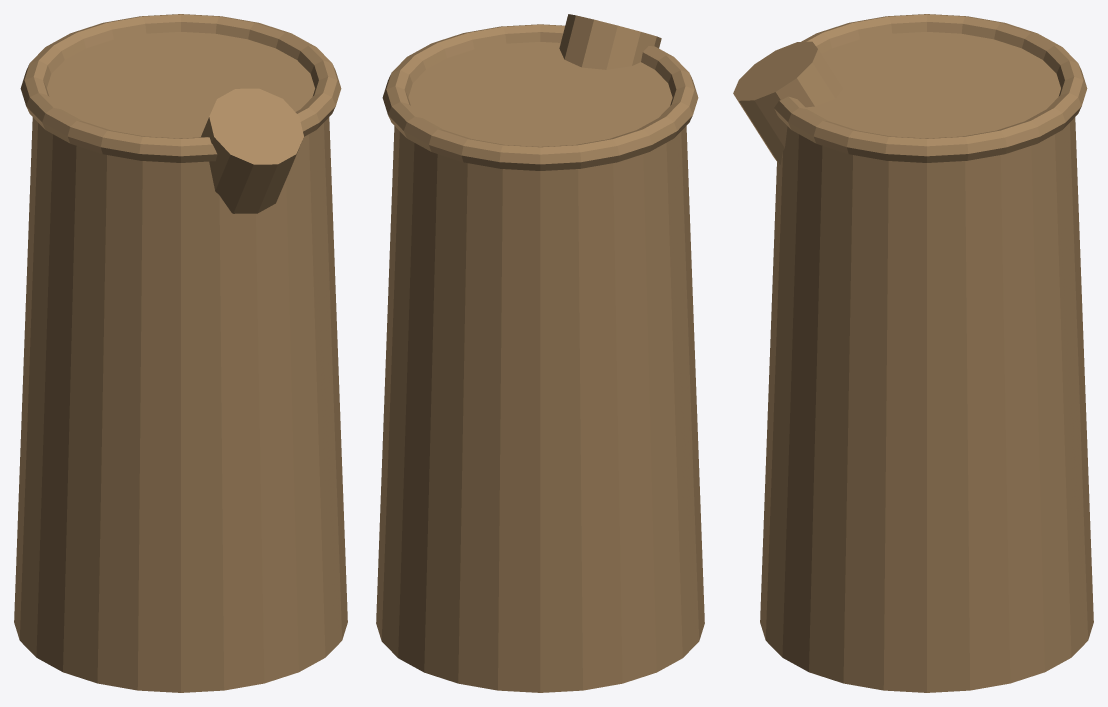
The model's file is jug.fbx.
The picture shows the model from 3 angles, left to right: view 1: azimuth 30°, elevation 25°; view 2: azimuth 150°, elevation 25°; view 3: azimuth 270°, elevation 25°; orthographic projection.
Visible parts, largest first — view 1: jug; view 2: jug; view 3: jug.
Boxes of the visible parts, <box> form: jug: <box>14,14,347,692</box>; jug: <box>376,14,704,692</box>; jug: <box>733,14,1093,692</box>.
Size of the model in its own units: 0.102 by 0.1933 by 0.1102.
